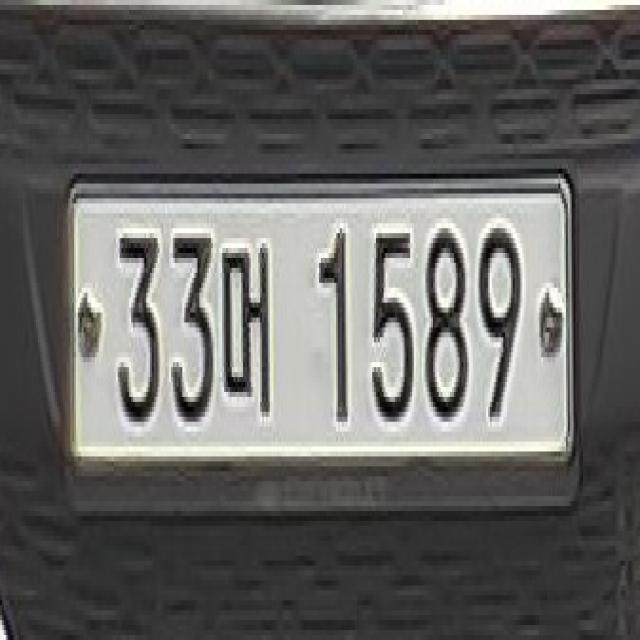1: (319, 223, 351, 417)
3: (169, 223, 215, 432), (118, 218, 161, 437)
5: (370, 218, 418, 437)
8: (424, 218, 467, 422)
9: (477, 208, 520, 422)
license_plate: (70, 174, 572, 452)
meo: (218, 243, 274, 422)
